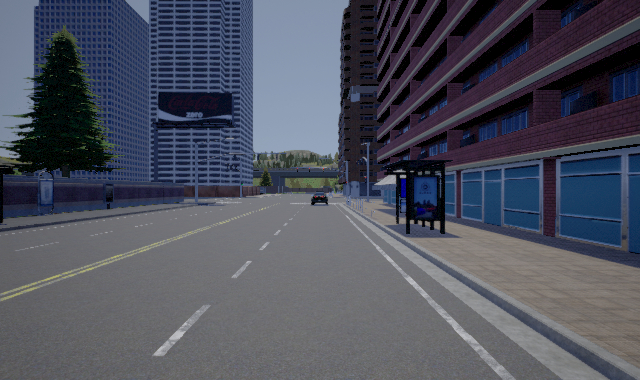vehicle: (310, 191, 330, 205)
